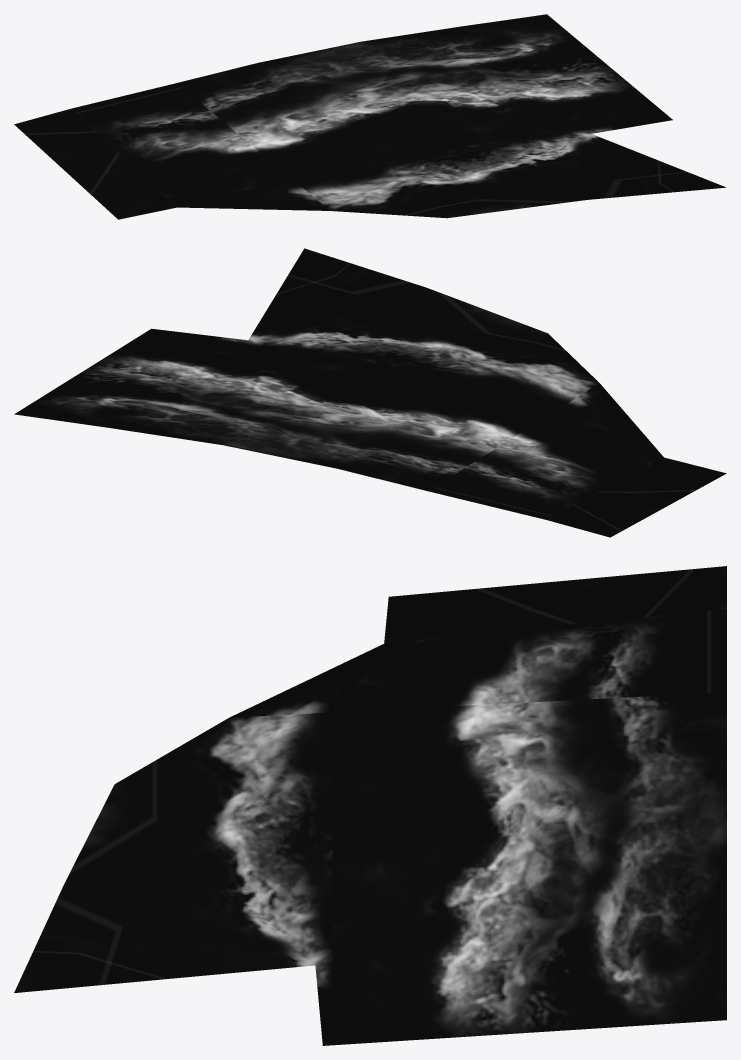
File: xiaohailang.FBX
3 views of the same model, one above another, from view 1: azimuth 30°, elevation 25°; view 2: azimuth 150°, elevation 25°; view 3: azimuth 270°, elevation 25° (orthographic). The views are drawn at different scales.
Visible parts, largest first — view 1: Object170; view 2: Object170; view 3: Object170.
Part boxes in pixels (left/top/right/bottom): Object170: left=14, top=14, right=726, bottom=219; Object170: left=14, top=248, right=726, bottom=537; Object170: left=14, top=566, right=726, bottom=1045.
Bounding box in the file's own units: 11.66 × 0.7698 × 8.3.
Materials: 1 (1 with a texture image).
